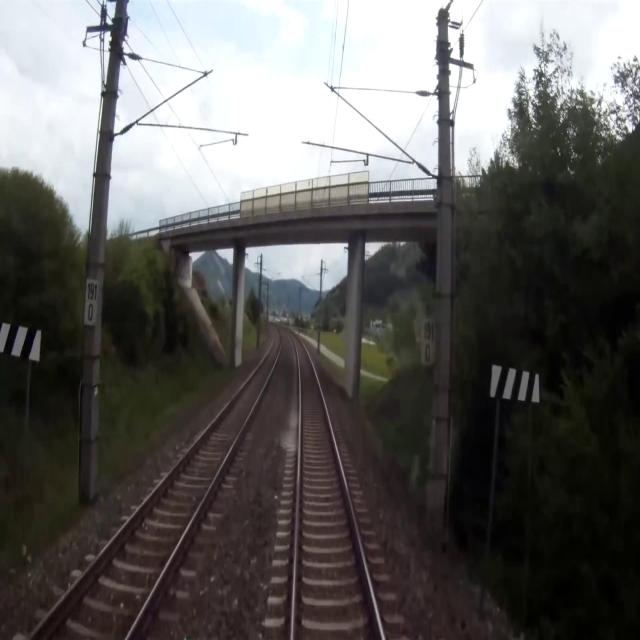rail-track: (35, 328, 279, 639), (293, 336, 381, 639)
